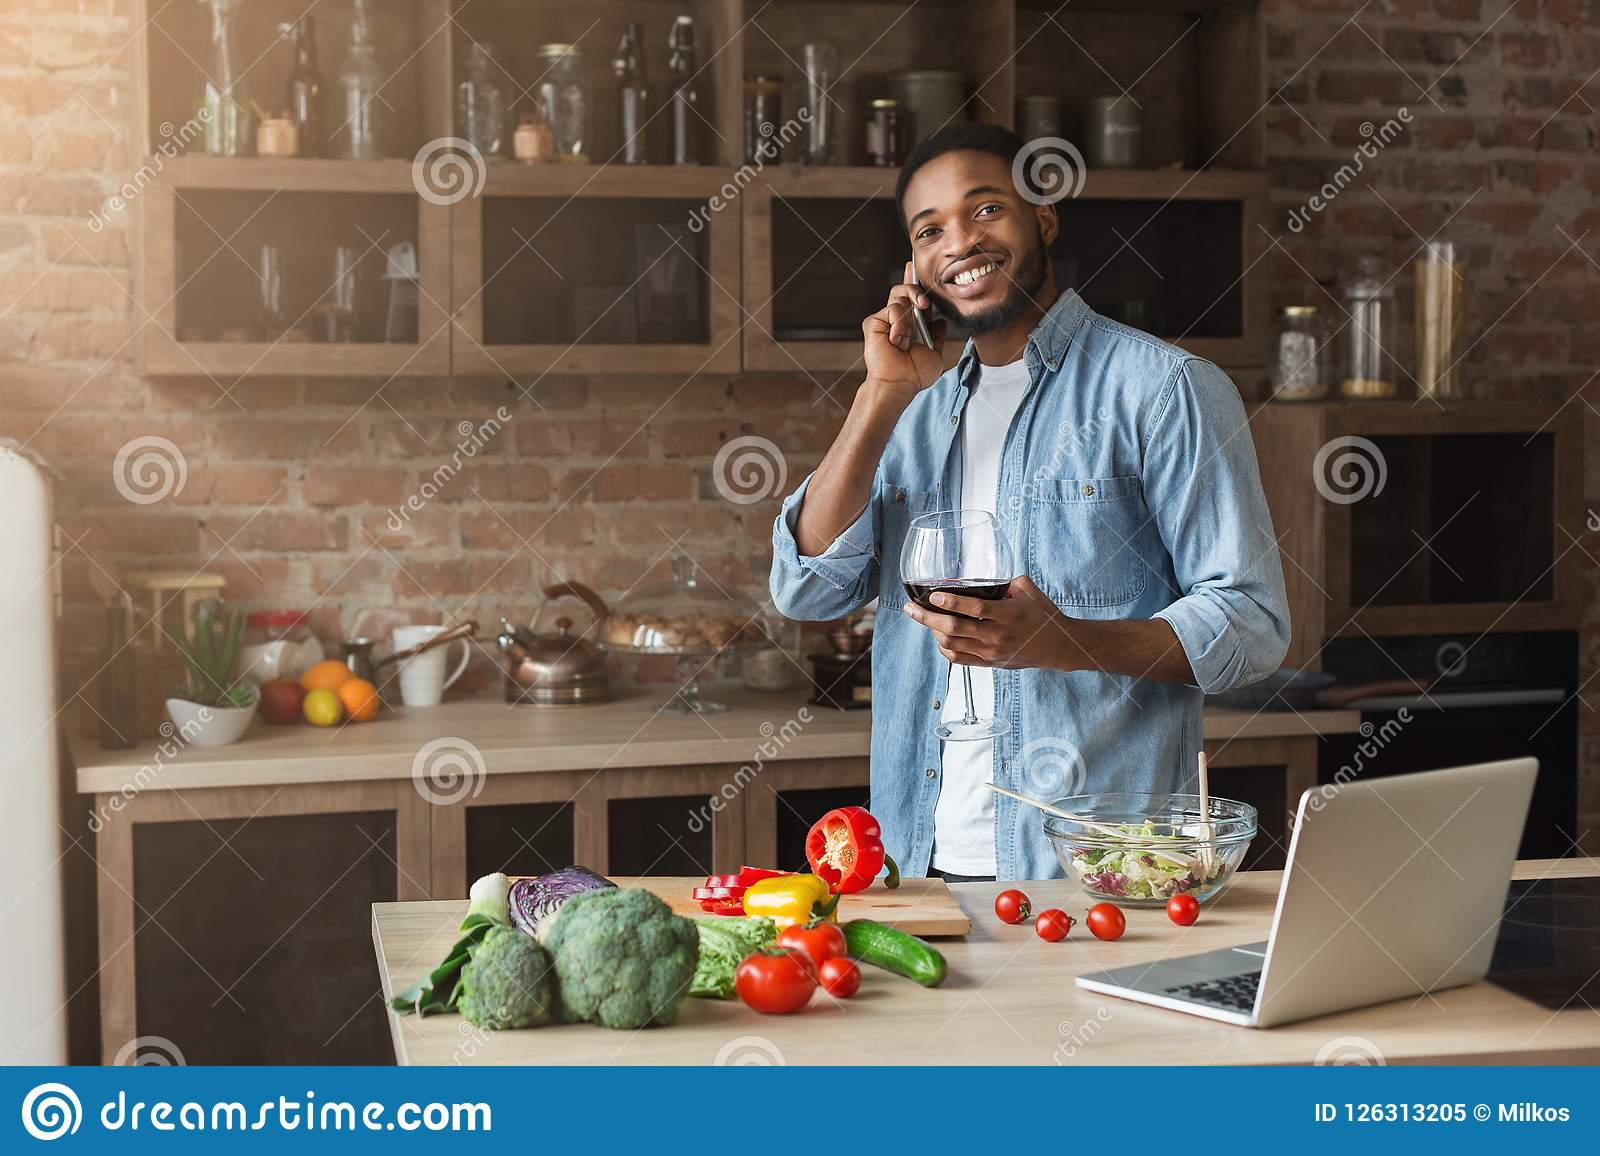phone: (908, 243, 940, 353)
talk: (862, 180, 1026, 402)
